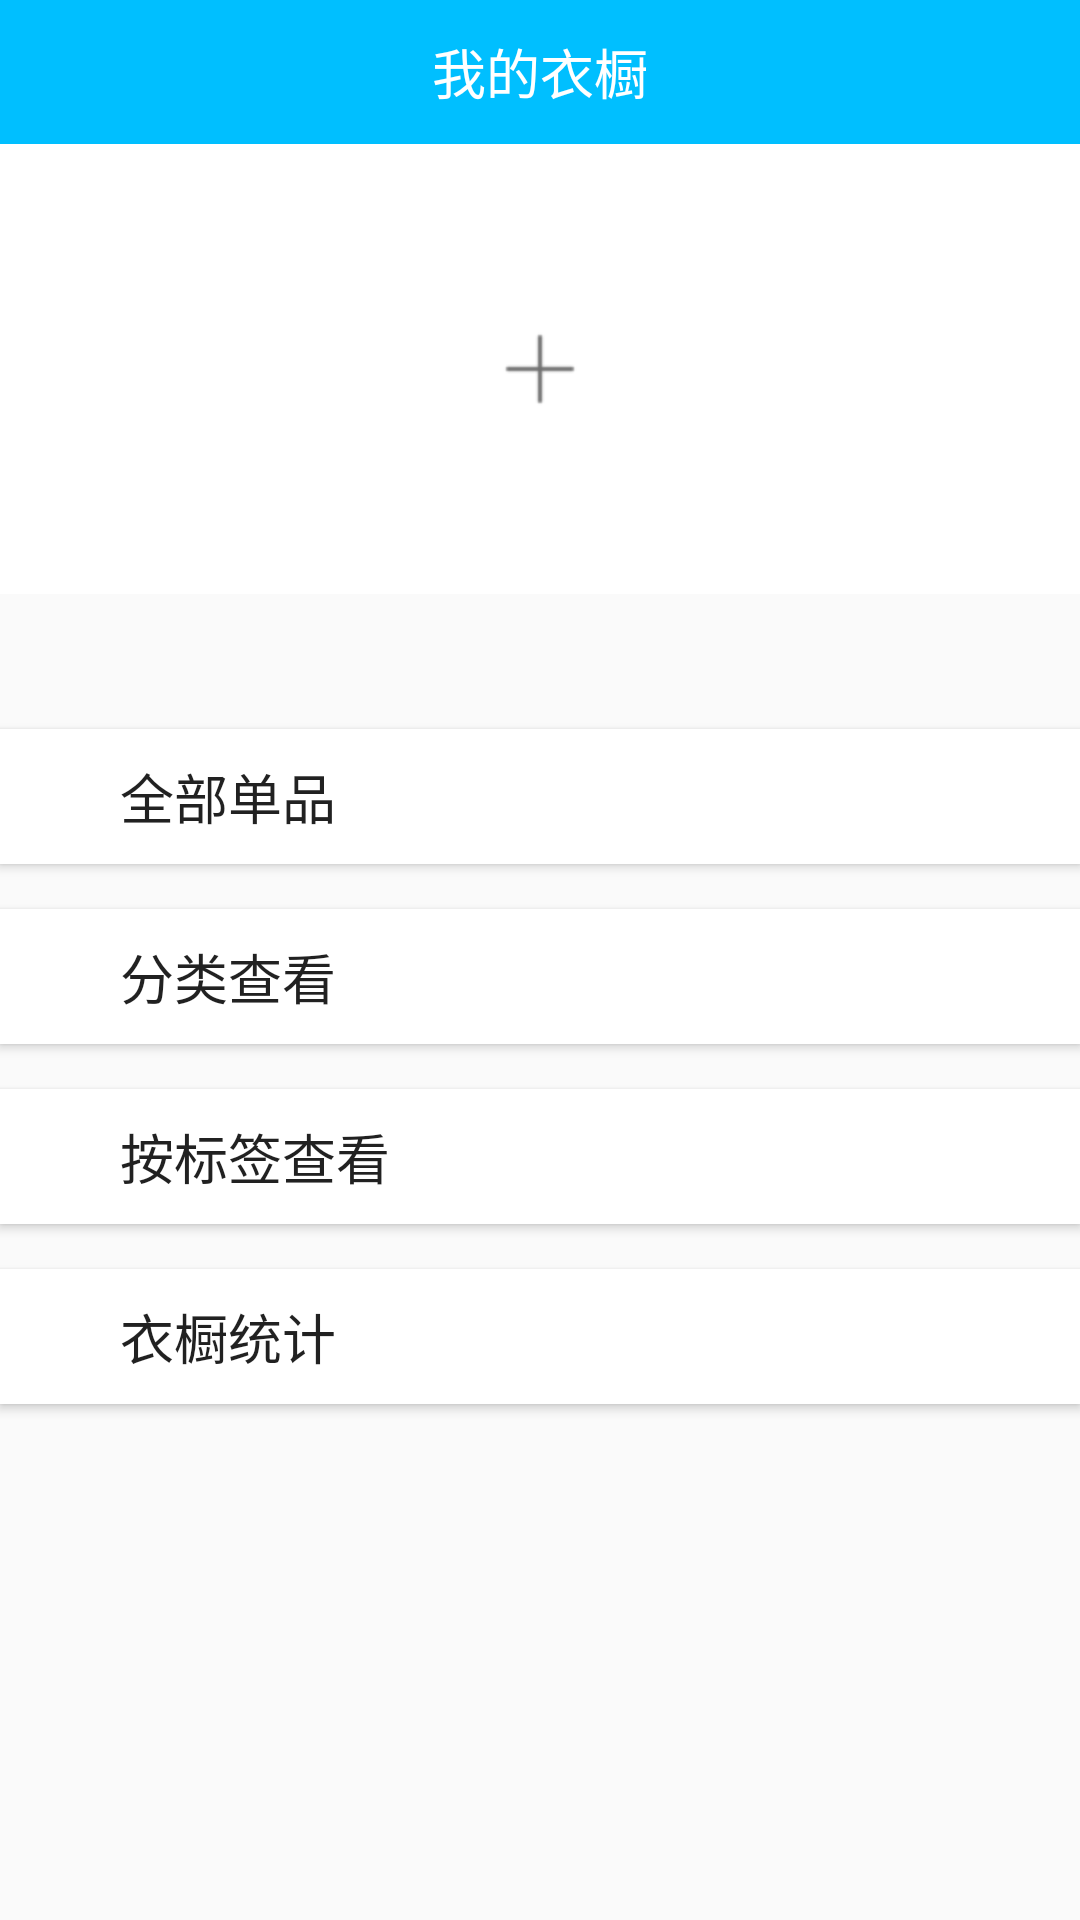

Locate icon controls on the screen. Image size 1080w x 1920h, boxes as bbox=[x1, y1, x2, y2].
add: bbox=[505, 334, 575, 404]
